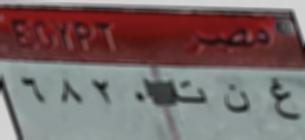0: (132, 84, 147, 106)
2: (87, 74, 115, 108)
6: (19, 73, 46, 112)
8: (57, 75, 84, 111)
ghayn: (266, 73, 302, 126)
noon: (219, 78, 252, 118)
taa: (172, 77, 211, 108)
